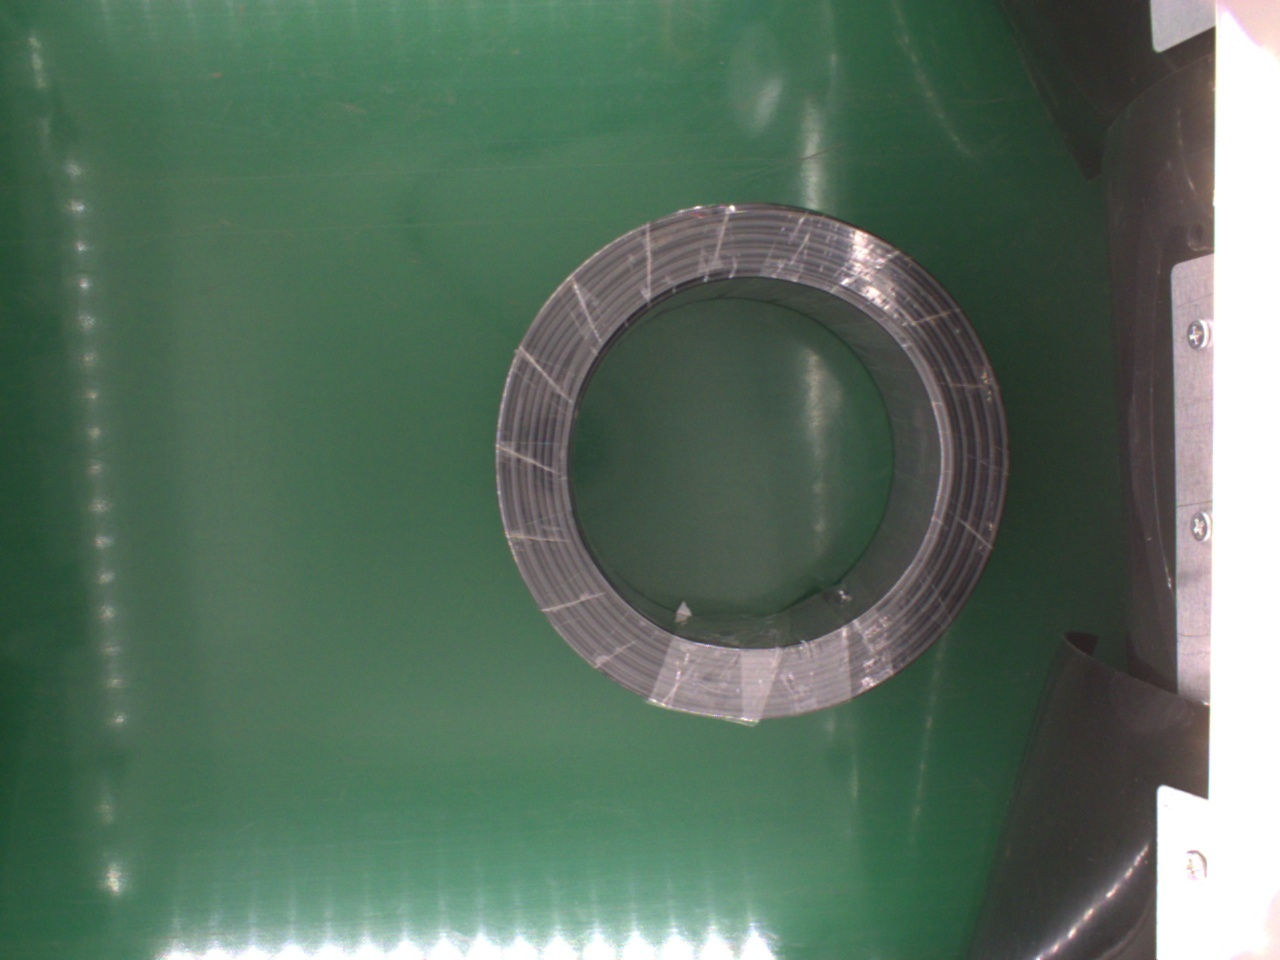black: (487, 201, 1007, 724)
